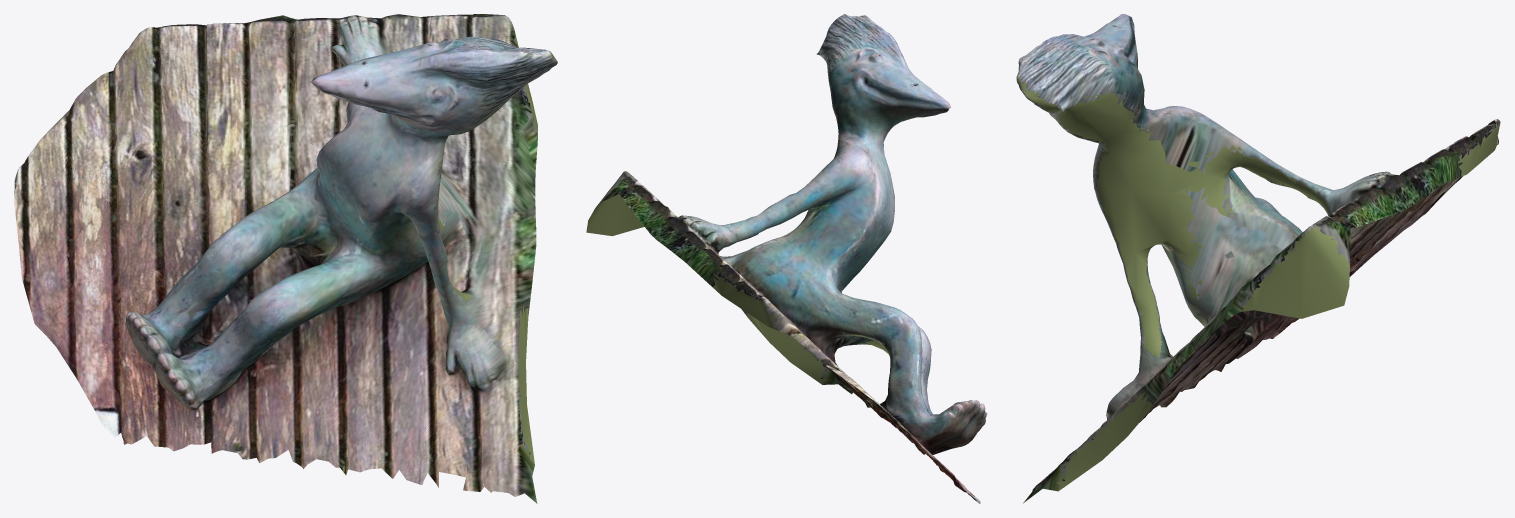
Rendered from geinVogel1.obj.
3 renders of one model, left to right at view 1: azimuth 30°, elevation 25°; view 2: azimuth 150°, elevation 25°; view 3: azimuth 270°, elevation 25°, orthographic. The views are drawn at different scales.
Size of the model in its own units: 19.23 by 18.17 by 18.12.
1 material, 1 textured.
